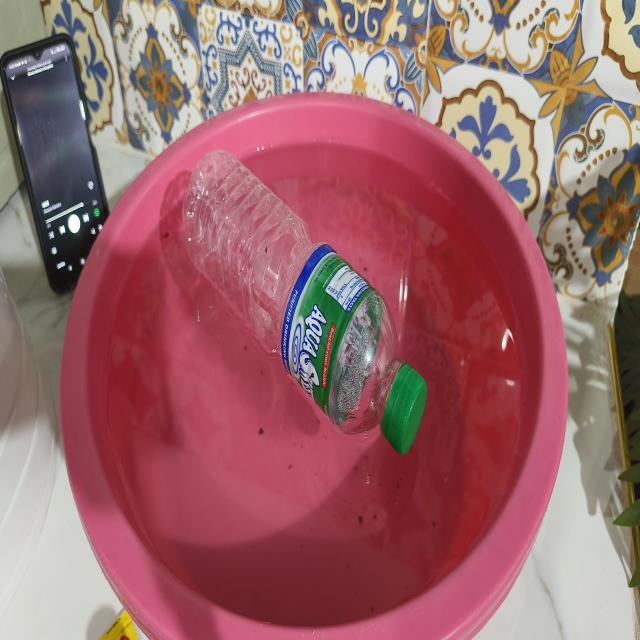Plastic Bottle: (159, 114, 453, 489)
